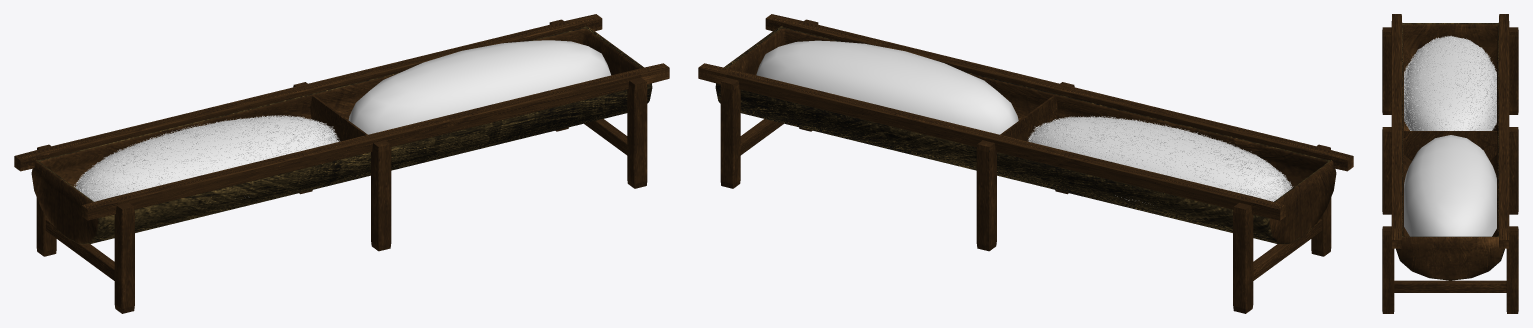
The model's file is feeder.fbx.
3 views of the same model, side by side, from view 1: azimuth 30°, elevation 25°; view 2: azimuth 150°, elevation 25°; view 3: azimuth 270°, elevation 25° (orthographic). The views are drawn at different scales.
Parts seen in each view (by area): view 1: woodentrough, Hay Stack_0.001, Hay Stack, Mesh_0, Mesh_0.002, Mesh_0.003, Mesh_0.001; view 2: woodentrough, Hay Stack_0.001, Hay Stack, Mesh_0, Mesh_0.001, Mesh_0.002; view 3: woodentrough, Hay Stack_0.001, Hay Stack, Mesh_0, Mesh_0.001, Mesh_0.003, Mesh_0.002.
Boxes of the visible parts, x1=… form: woodentrough: x1=14, y1=14, x2=669, y2=313; Hay Stack_0.001: x1=348, y1=40, x2=610, y2=134; Hay Stack: x1=76, y1=116, x2=336, y2=201; Mesh_0: x1=111, y1=116, x2=339, y2=171; Mesh_0.002: x1=74, y1=129, x2=181, y2=199; Mesh_0.003: x1=82, y1=140, x2=309, y2=201; Mesh_0.001: x1=102, y1=115, x2=336, y2=159; woodentrough: x1=698, y1=14, x2=1353, y2=313; Hay Stack_0.001: x1=756, y1=40, x2=1018, y2=134; Hay Stack: x1=1030, y1=117, x2=1291, y2=201; Mesh_0: x1=1033, y1=116, x2=1251, y2=171; Mesh_0.001: x1=1028, y1=117, x2=1223, y2=199; Mesh_0.002: x1=1128, y1=152, x2=1293, y2=202; woodentrough: x1=1382, y1=14, x2=1518, y2=313; Hay Stack_0.001: x1=1404, y1=135, x2=1496, y2=236; Hay Stack: x1=1404, y1=36, x2=1496, y2=130; Mesh_0: x1=1415, y1=38, x2=1482, y2=130; Mesh_0.001: x1=1421, y1=48, x2=1496, y2=130; Mesh_0.003: x1=1404, y1=48, x2=1427, y2=130; Mesh_0.002: x1=1420, y1=35, x2=1496, y2=84.
Bounding box in the file's own units: 335 × 69.54 × 85.48.
